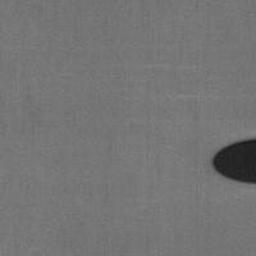Punching: (212, 139, 256, 184)
